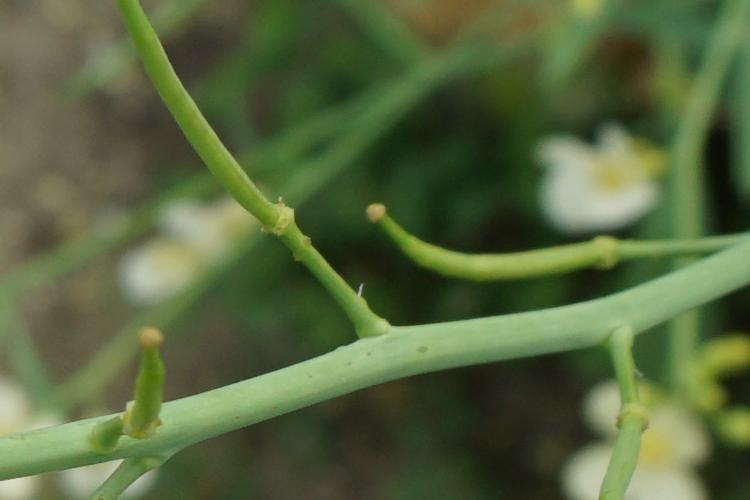pod: (361, 193, 656, 291), (88, 308, 197, 450)
